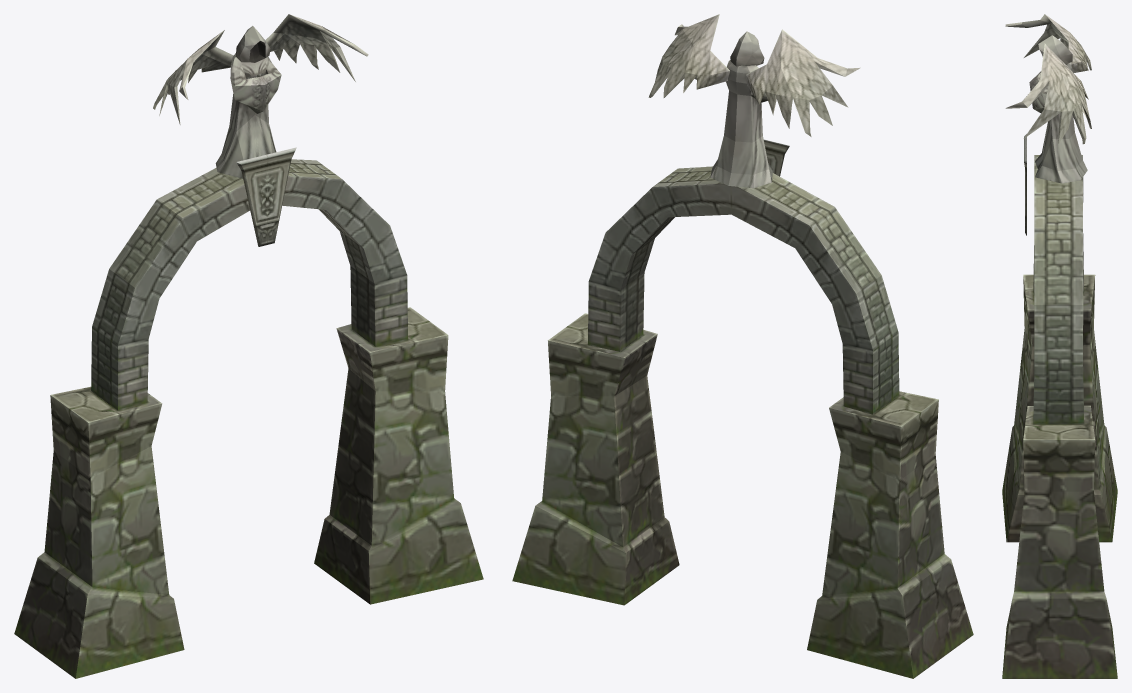
File: greenruins03.FBX
3 renders of one model, left to right at view 1: azimuth 30°, elevation 25°; view 2: azimuth 150°, elevation 25°; view 3: azimuth 270°, elevation 25°, orthographic. The views are drawn at different scales.
Visible parts, largest first — view 1: greenruins03; view 2: greenruins03; view 3: greenruins03.
Part boxes in pixels (bbox=[...]): greenruins03: bbox=[14, 14, 483, 678]; greenruins03: bbox=[512, 14, 973, 678]; greenruins03: bbox=[1002, 14, 1117, 678].
Size of the model in its own units: 424 by 587 by 110.
